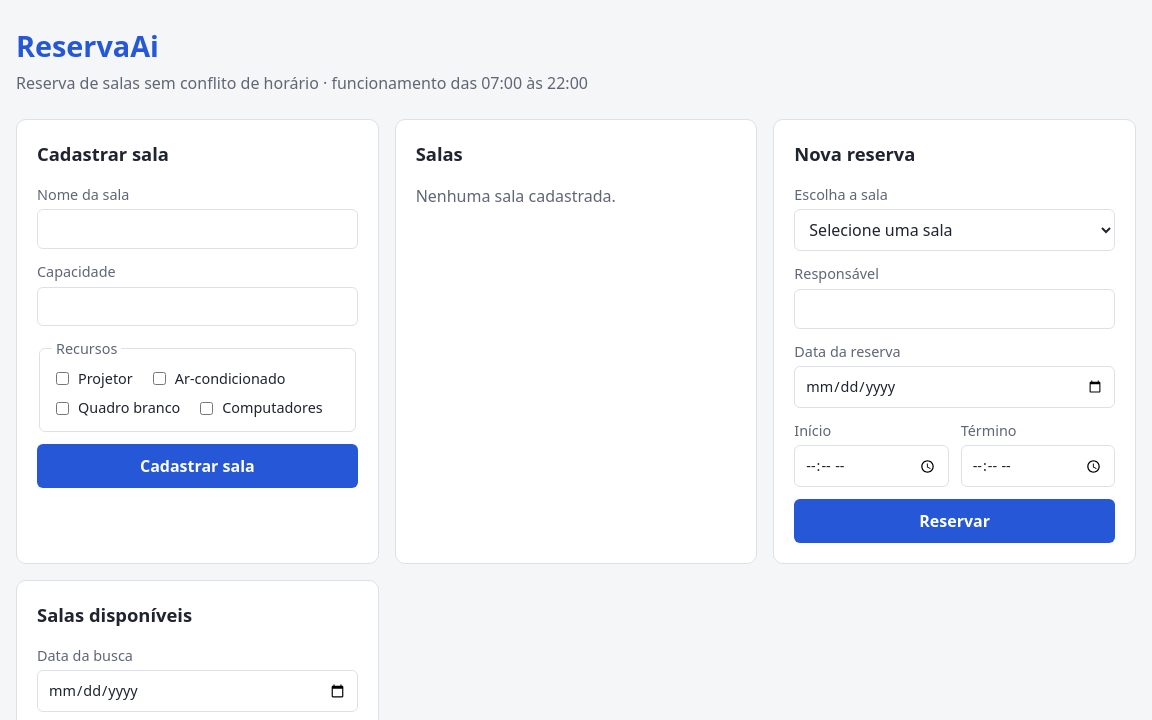
App › exibe a sala cadastrada na lista e entre as opções de reserva
This screenshot has width=1152, height=720.
Step 1. Type "Sala 101" into the field labelled "Nome da sala" → (197, 229), box x1=37 y1=209 x2=358 y2=249
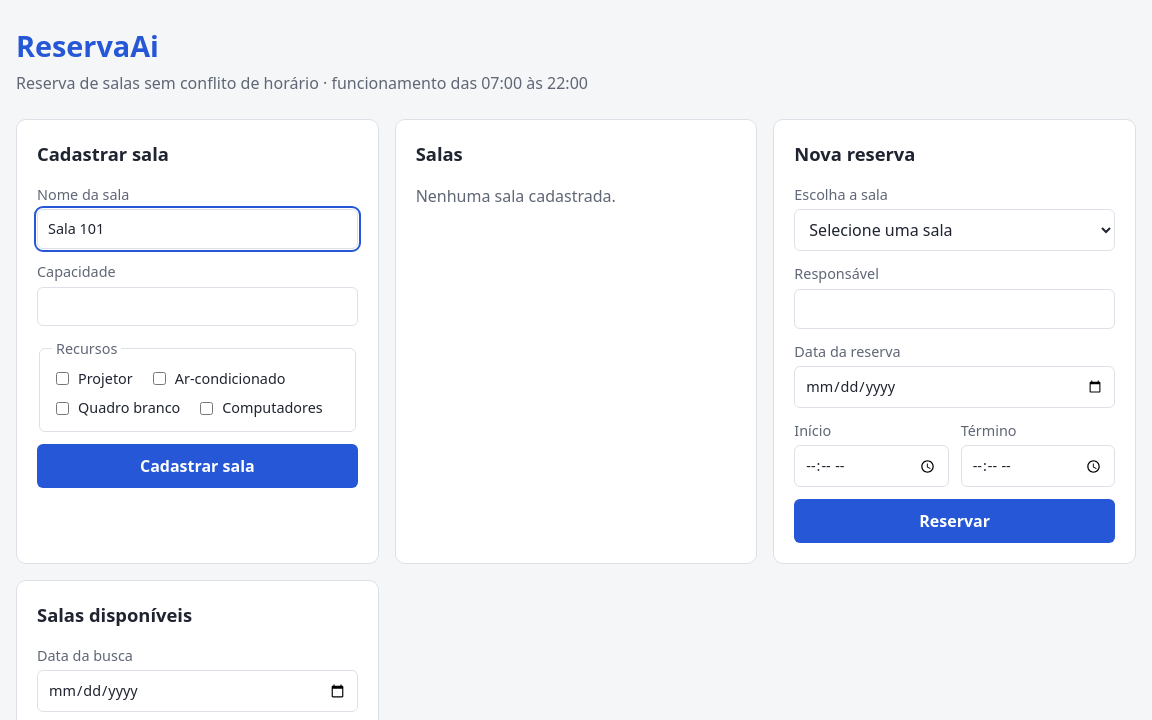
Step 2. Type "30" into the number field labelled "Capacidade" → (197, 306), box x1=37 y1=287 x2=358 y2=326
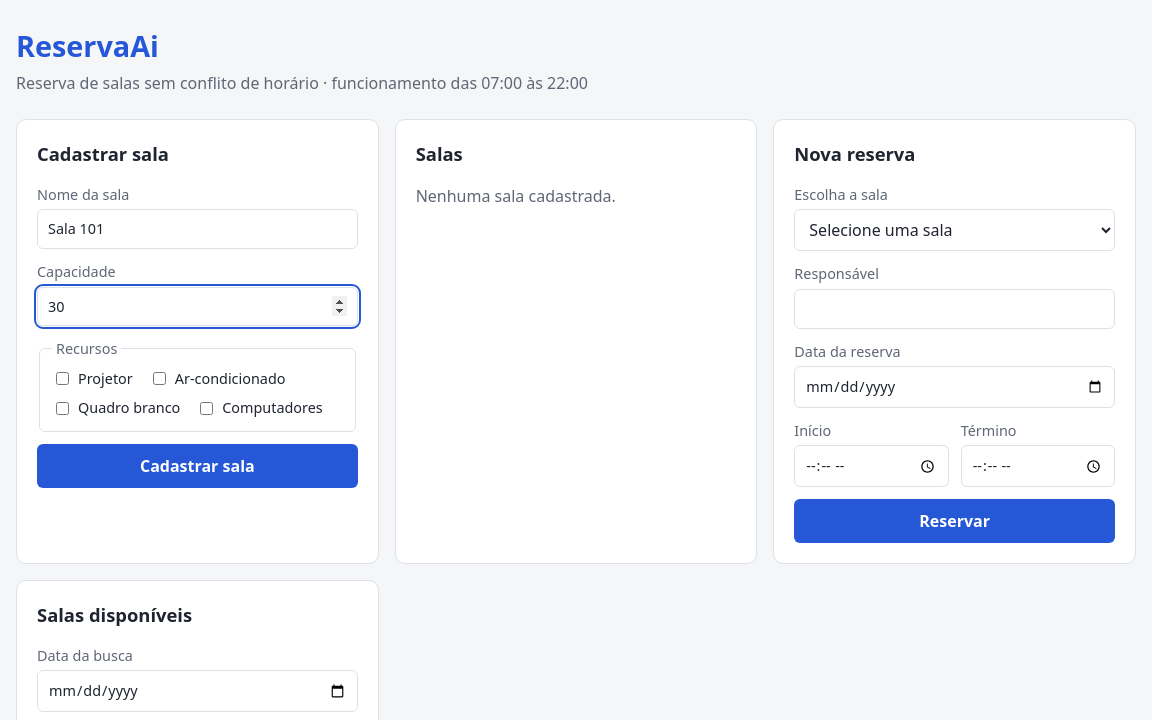
Step 3. Click the button "Cadastrar sala" → (197, 466), box x1=37 y1=444 x2=358 y2=488
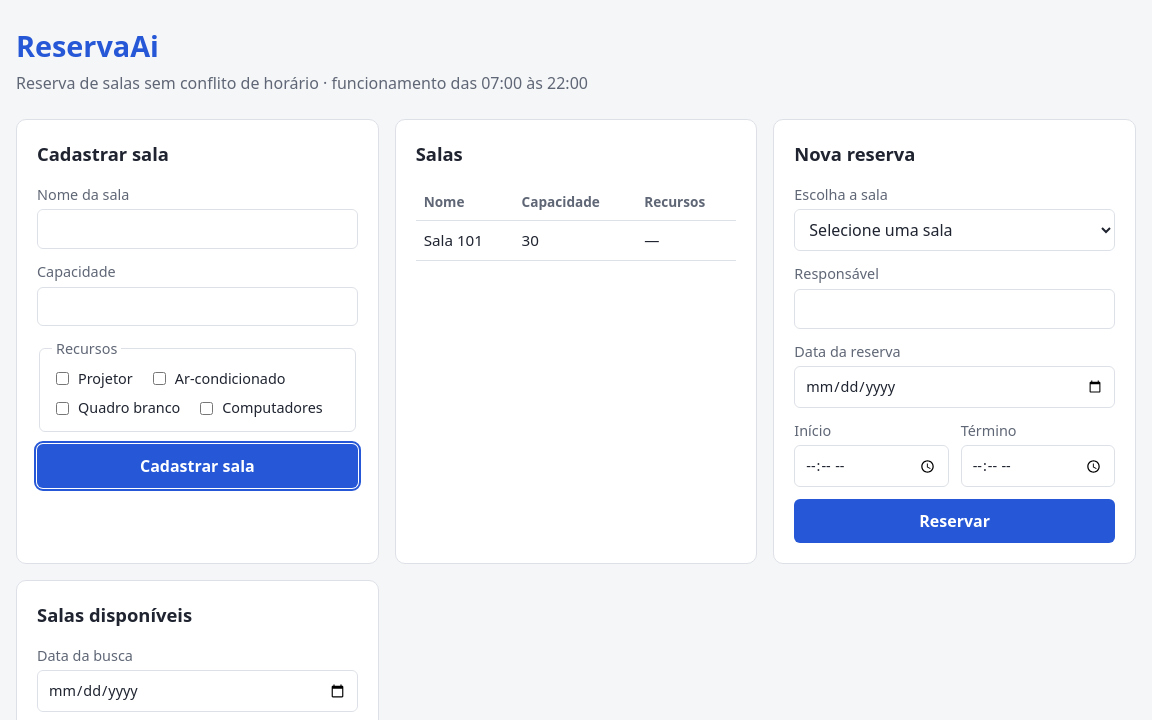
Expected: the row "Sala 101 30 —" is shown, x1=416 y1=221 x2=736 y2=260
